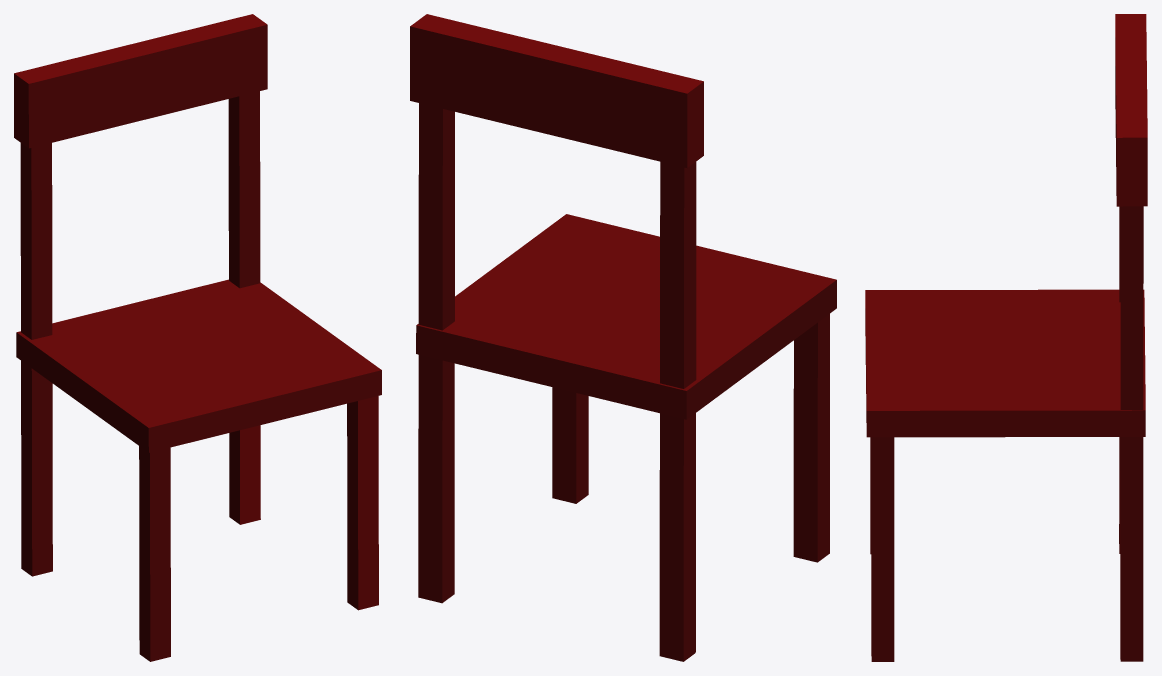
The model's file is PlainWoodChair.glb.
3 views of the same model, side by side, from view 1: azimuth 30°, elevation 25°; view 2: azimuth 150°, elevation 25°; view 3: azimuth 270°, elevation 25° (orthographic). The views are drawn at different scales.
Visible parts, largest first — view 1: PlainWoodChair; view 2: PlainWoodChair; view 3: PlainWoodChair.
Part boxes in pixels (x1,y1,x2,y2): PlainWoodChair: (14, 14, 381, 661); PlainWoodChair: (410, 14, 836, 661); PlainWoodChair: (865, 14, 1147, 661).
Bounding box in the file's own units: 2.34 × 4.61 × 2.24.
